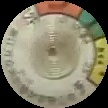green: (77, 9, 107, 39)
red: (34, 2, 84, 20)
yellow: (89, 38, 108, 91)
